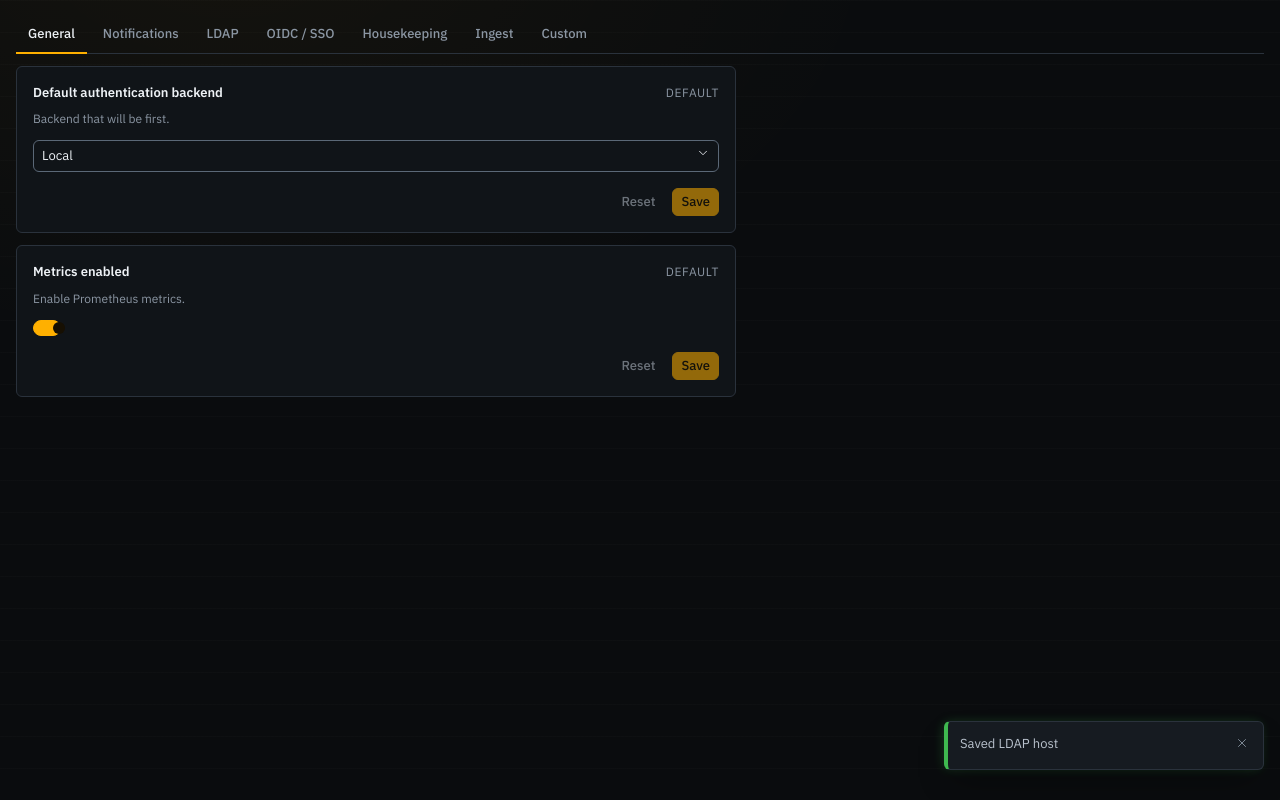
SettingsPage › renders a Custom tab when records exist with names not in the catalogue
Click the tab "Custom" at (564, 35), box x1=529 y1=16 x2=599 y2=54
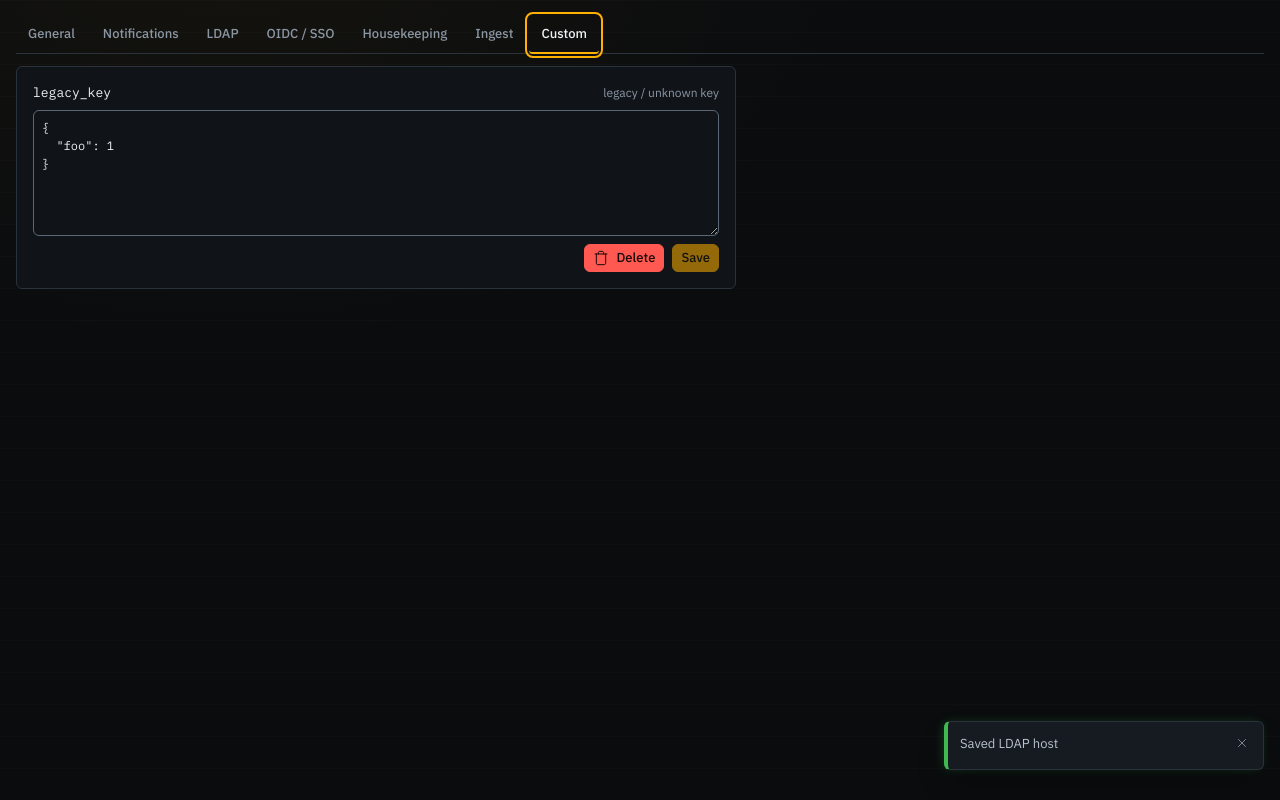
Expected: the text "legacy_key" is shown, x1=33 y1=82 x2=111 y2=102
